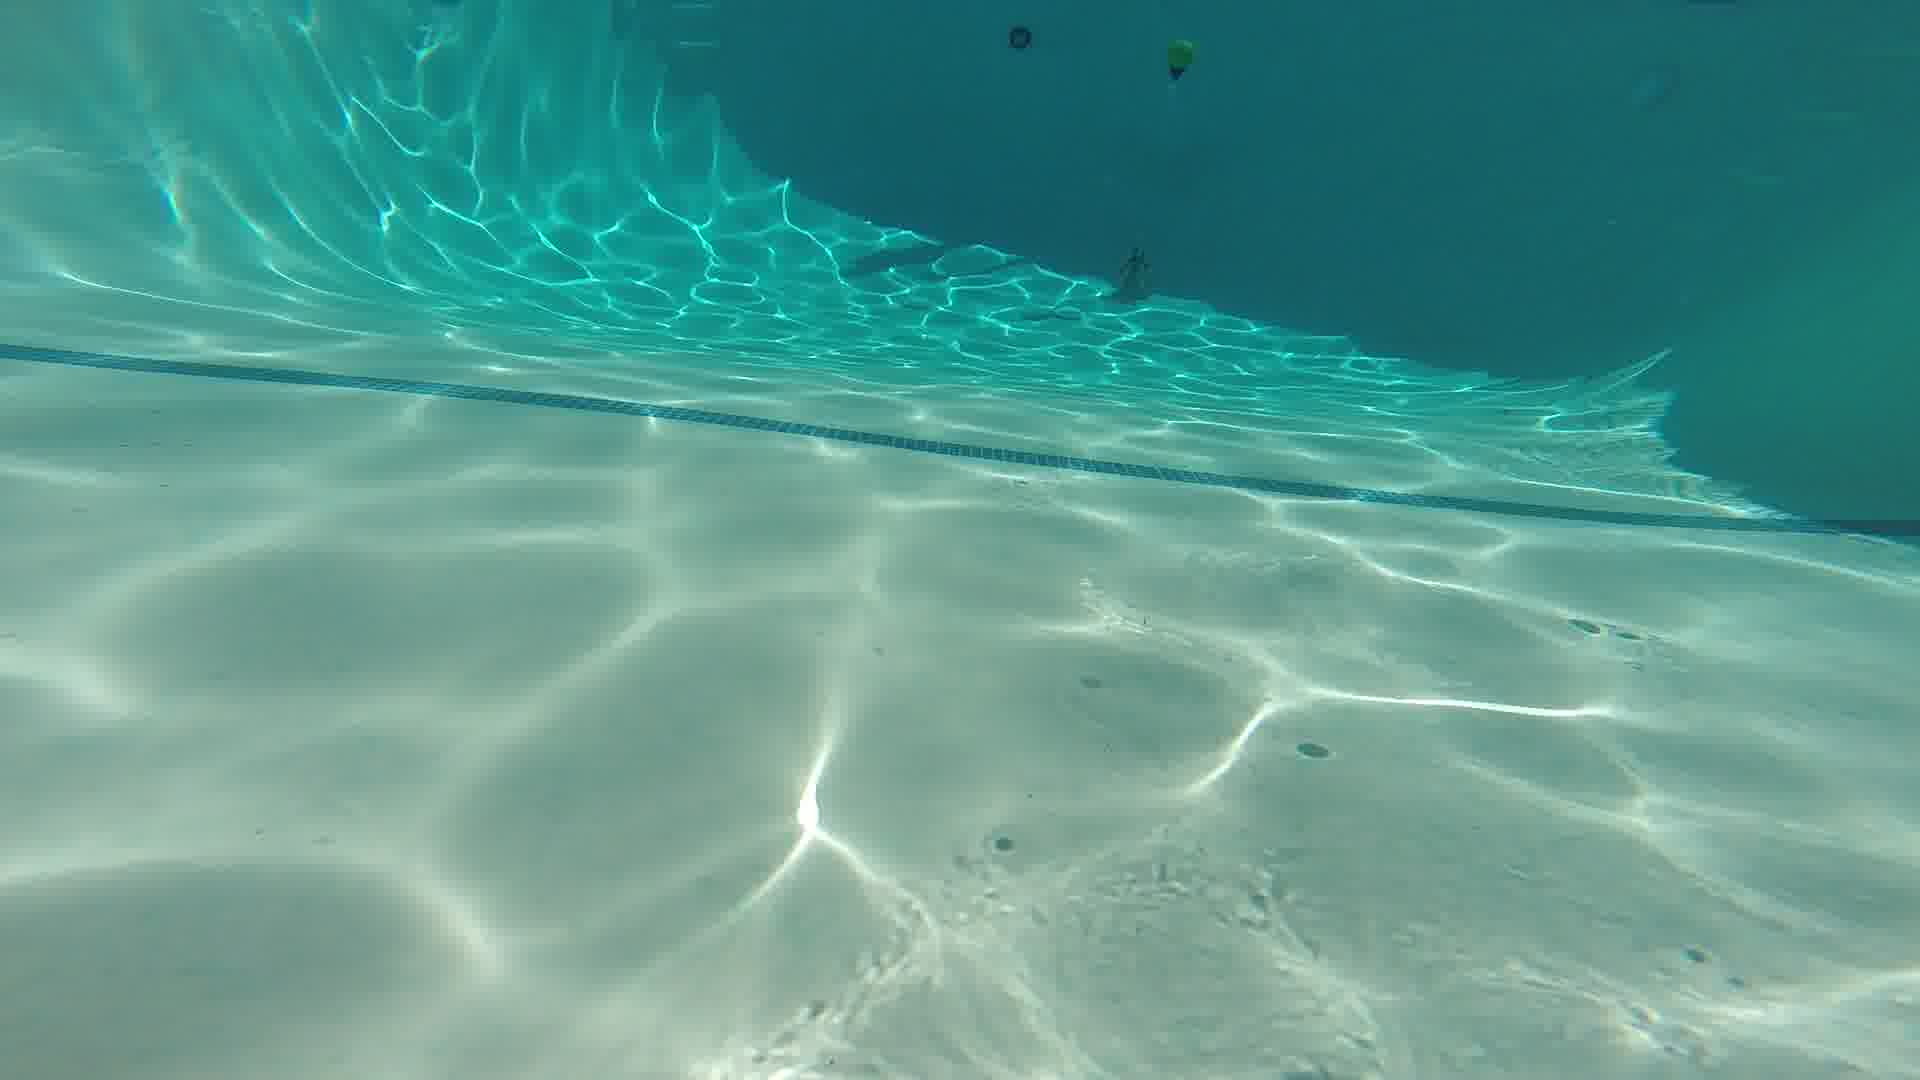yellow_buoy: (1162, 33, 1197, 92)
